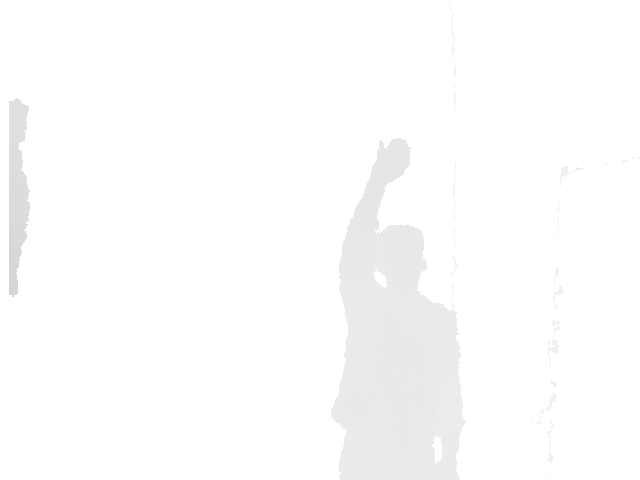hand: (375, 138, 412, 186)
head: (377, 223, 427, 298)
person: (329, 138, 466, 480)
